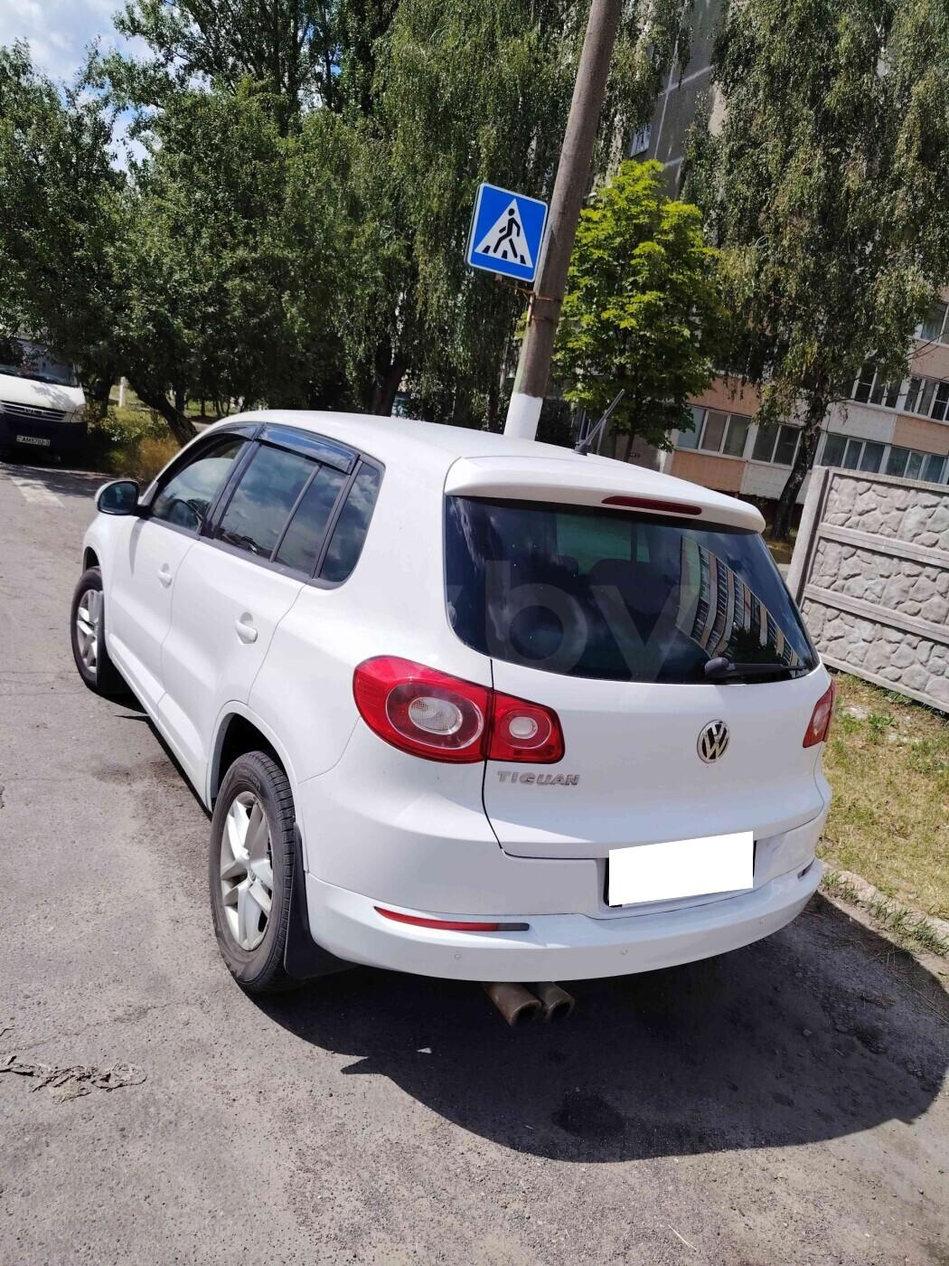Tiguan_2007-2011: (70, 405, 839, 1024)
